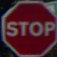Stop: (1, 4, 53, 47)
